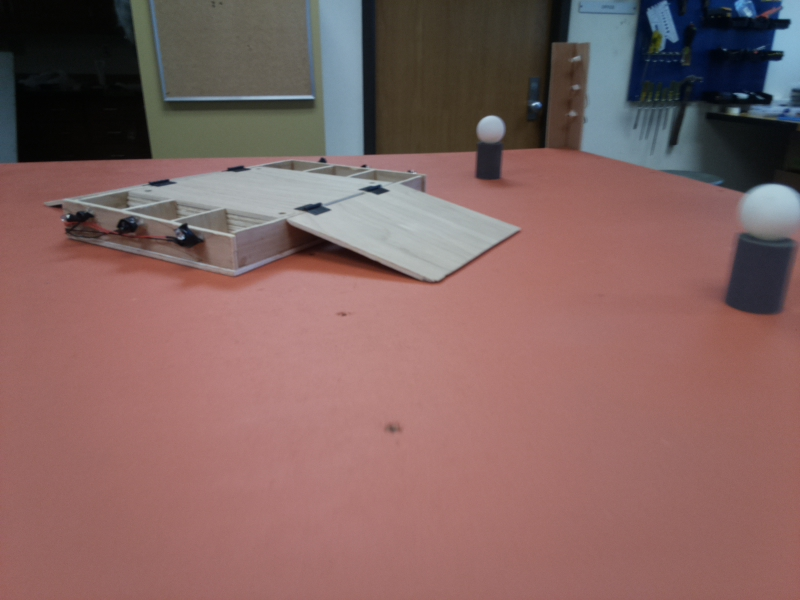corner: (547, 41, 588, 150)
obstacle: (733, 184, 798, 327), (472, 113, 508, 183)
side: (52, 210, 253, 260)
slope: (275, 195, 512, 276)
